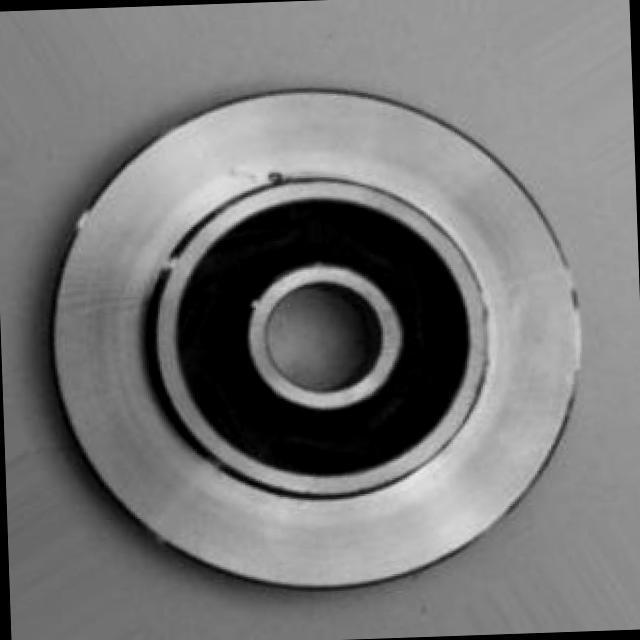Defect: (264, 168, 290, 190)
